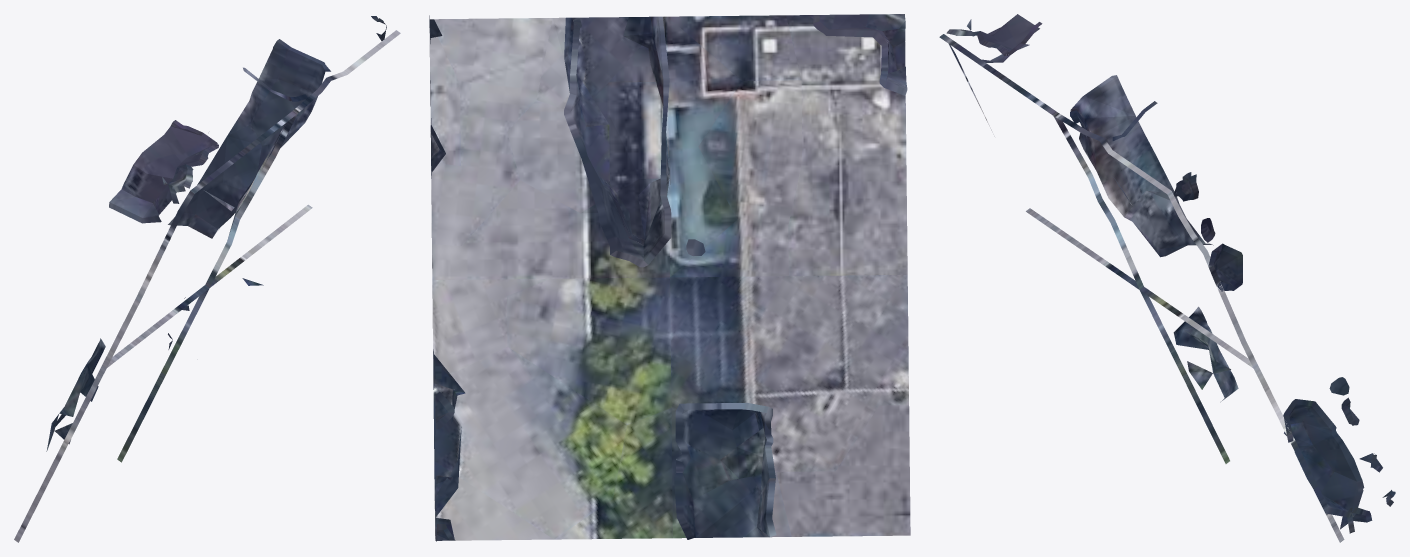
The picture shows the model from 3 angles, left to right: view 1: azimuth 30°, elevation 25°; view 2: azimuth 150°, elevation 25°; view 3: azimuth 270°, elevation 25°; orthographic projection. The views are drawn at different scales.
Bounding box in the file's own units: 38.19 × 37.03 × 36.28.
1 material, 1 textured.
